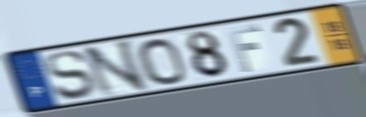2: (276, 15, 325, 71)
8: (184, 29, 230, 80)
F: (225, 23, 264, 74)
N: (80, 37, 151, 100)
O: (134, 37, 189, 86)
S: (43, 49, 97, 103)
